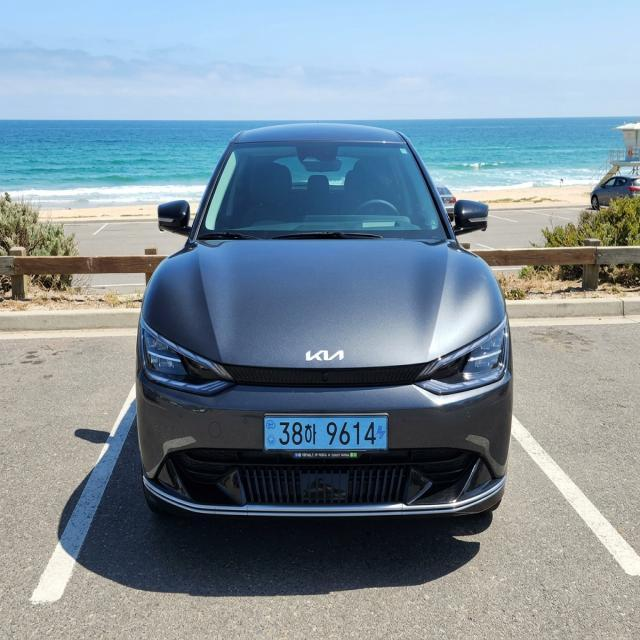car: (256, 410, 395, 466)
carev: (375, 413, 391, 456), (265, 415, 278, 457)
